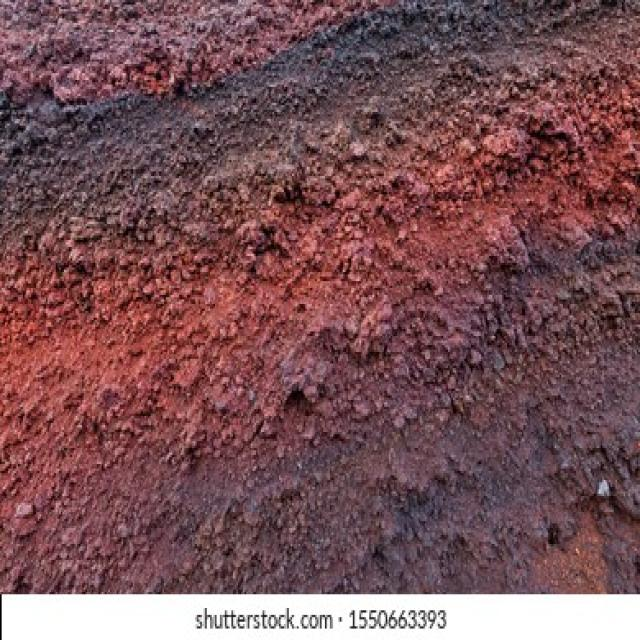Red Soil: (21, 93, 608, 520)
